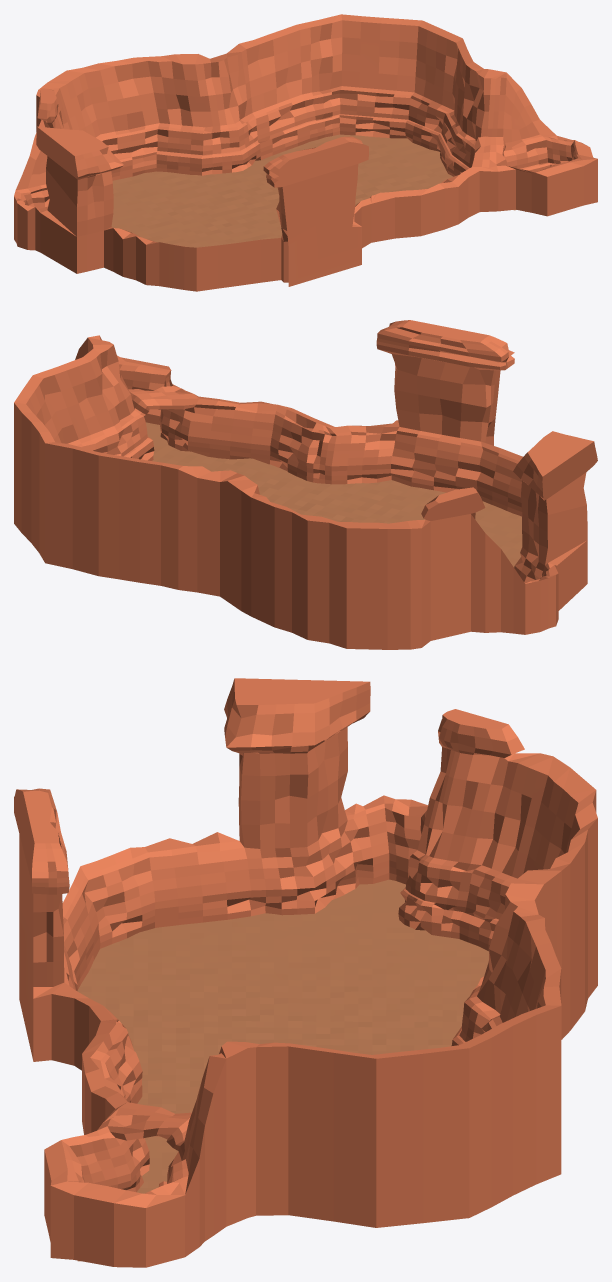
File: Arena_V01.fbx
3 renders of one model, top to bottom at view 1: azimuth 30°, elevation 25°; view 2: azimuth 150°, elevation 25°; view 3: azimuth 270°, elevation 25°, orthographic. The views are drawn at different scales.
Visible parts, largest first — view 1: Arena_V01_Walls, Arena_V01_Floor; view 2: Arena_V01_Walls, Arena_V01_Floor; view 3: Arena_V01_Walls, Arena_V01_Floor.
Part boxes in pixels (box(x1,y1,x2,y2)): Arena_V01_Walls: box(14, 14, 597, 291); Arena_V01_Floor: box(111, 134, 525, 247); Arena_V01_Walls: box(14, 320, 597, 649); Arena_V01_Floor: box(146, 422, 522, 567); Arena_V01_Walls: box(14, 678, 597, 1267); Arena_V01_Floor: box(77, 879, 488, 1261).
Bounding box in the file's own units: 13704 × 3399 × 8444.
